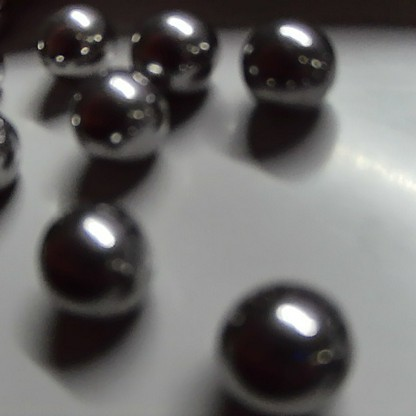ironball: (226, 263, 365, 405), (17, 181, 149, 324), (58, 70, 165, 165), (239, 16, 335, 118), (127, 7, 215, 94), (19, 4, 117, 80)
